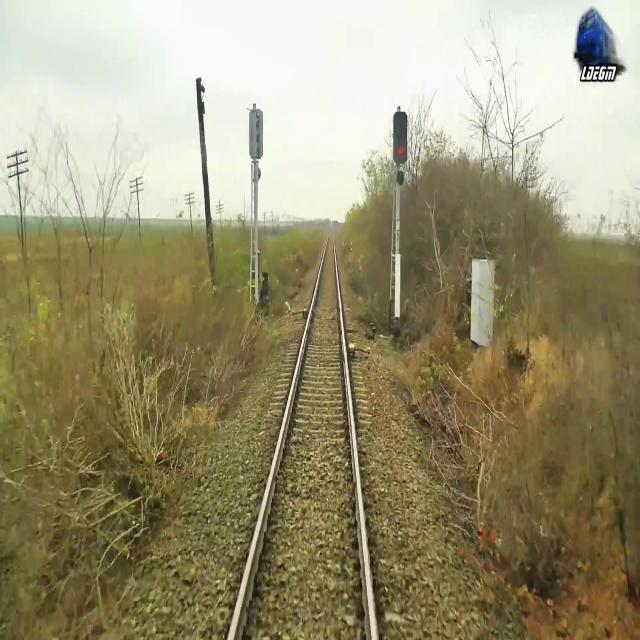rail-track: (232, 226, 372, 639)
